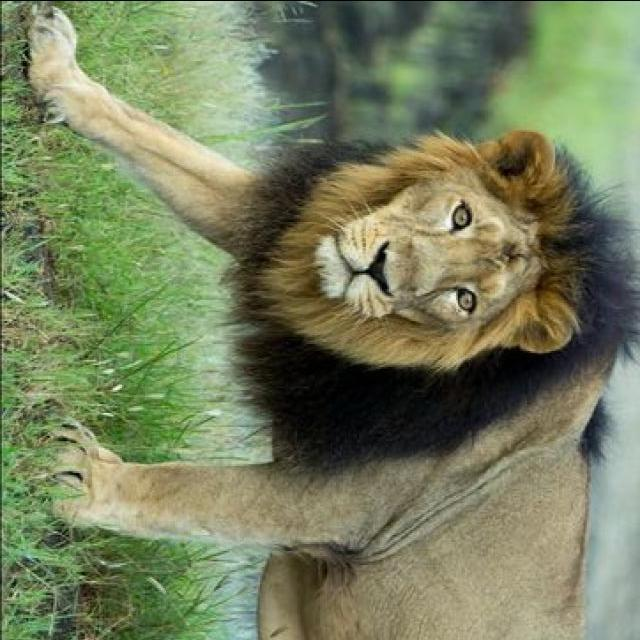lions: (5, 22, 640, 640)
